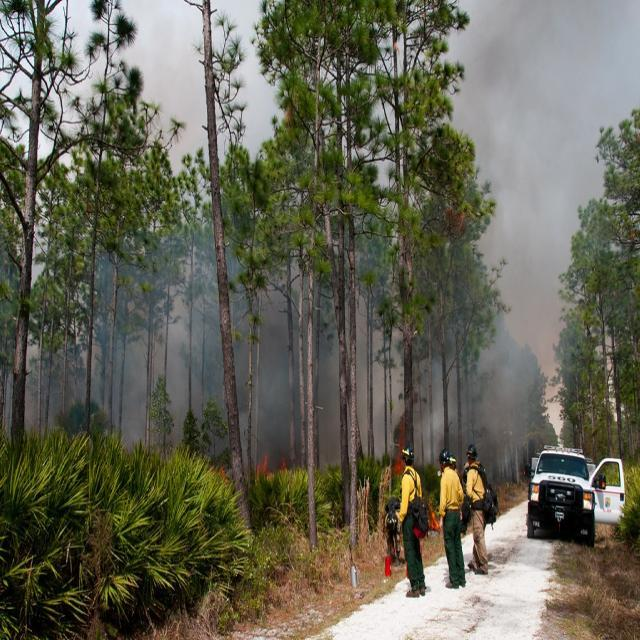Fire: (255, 452, 288, 479), (393, 414, 406, 476)
Smoke: (3, 1, 640, 479)
